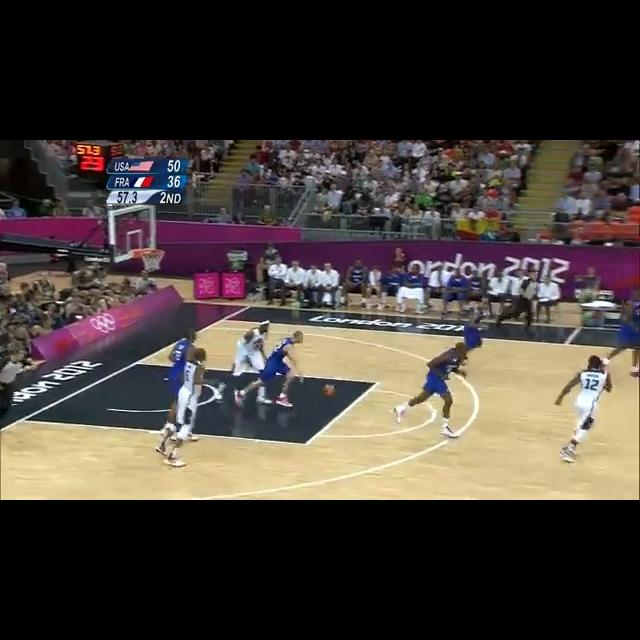basketball: (324, 382, 335, 398)
hoop: (138, 251, 168, 273)
